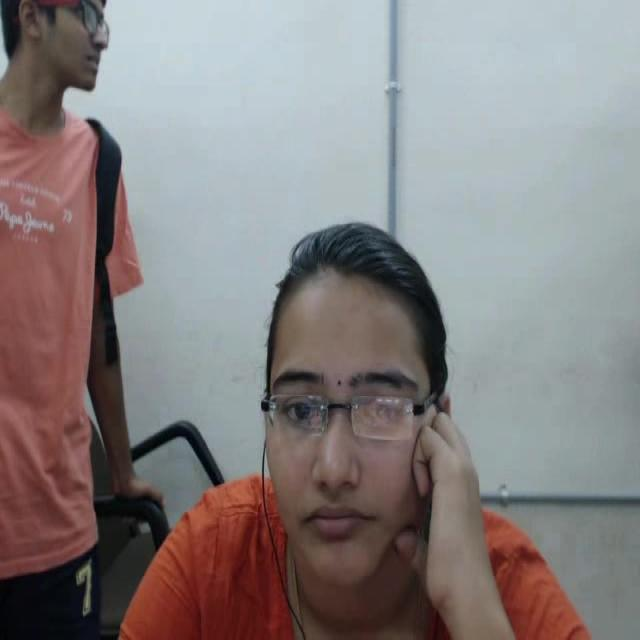Bored: (245, 211, 471, 623)
